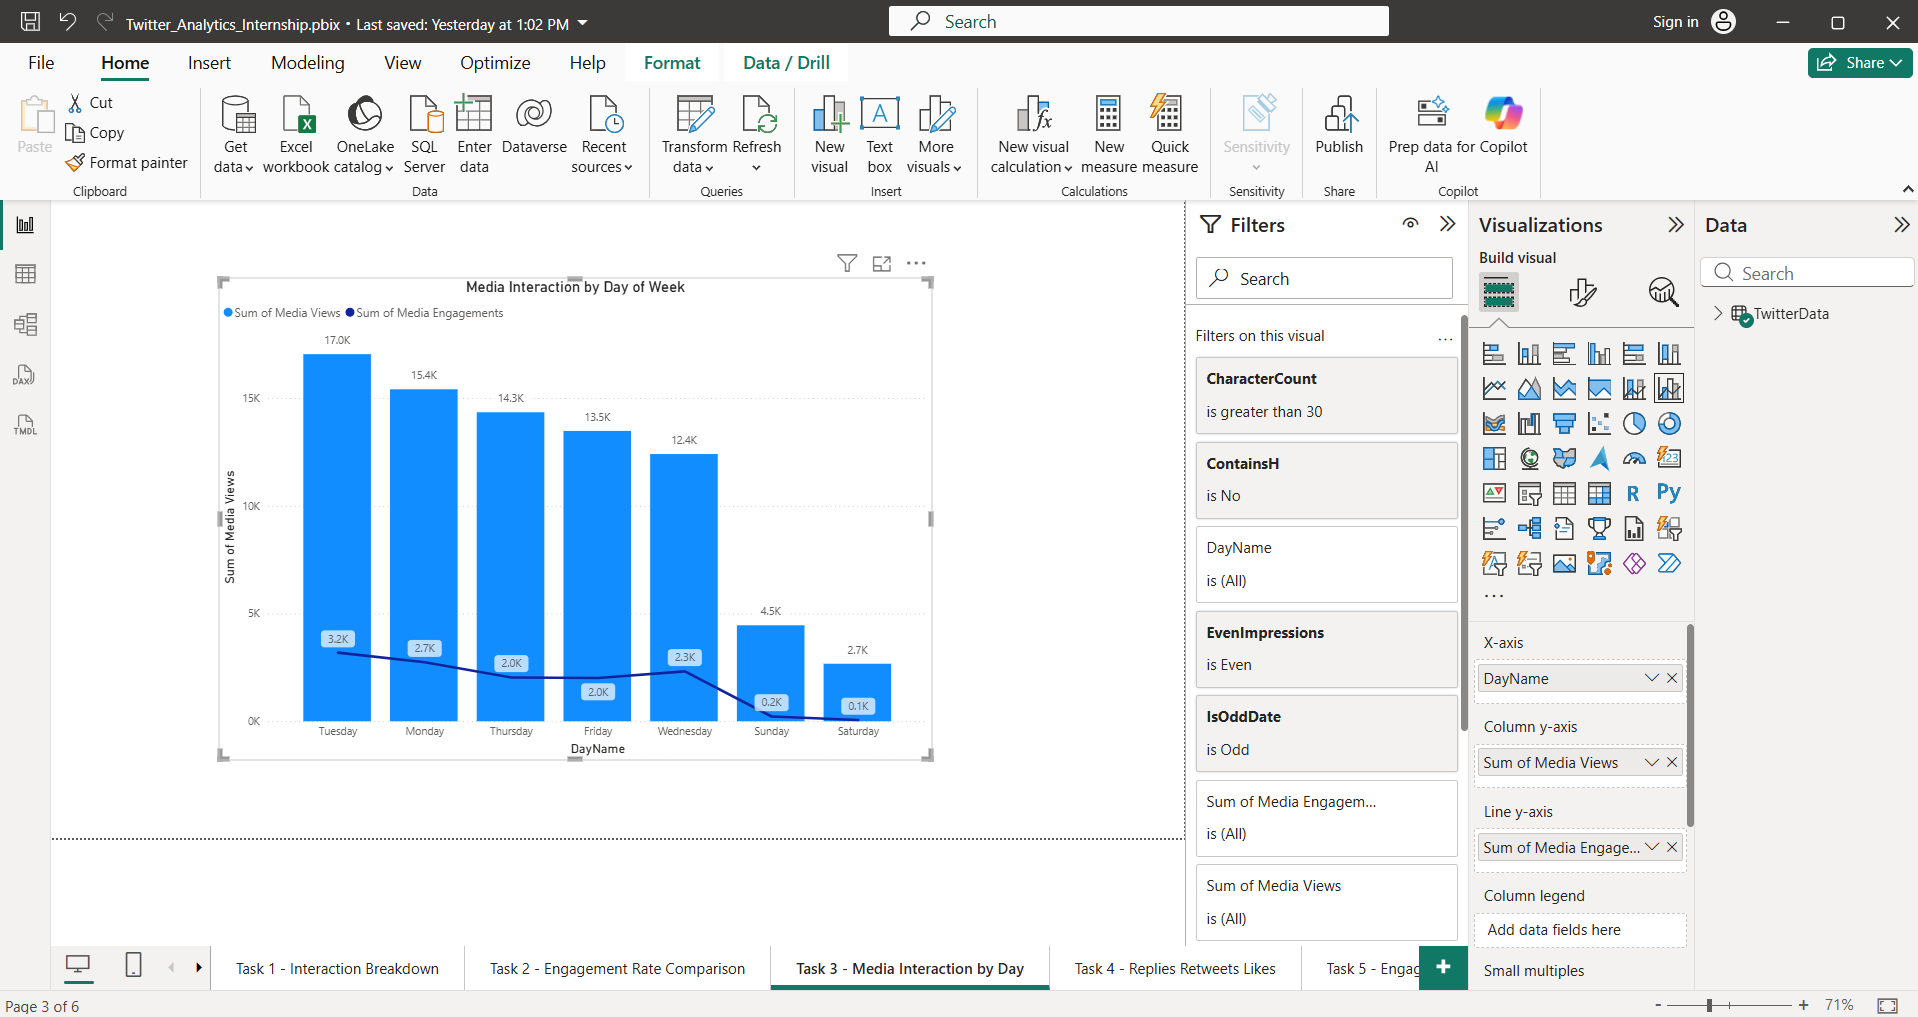

This screenshot's page, from the dashboard's own definition file:
{"tool":"powerbi","page":{"name":"Task 3 - Media Interaction by Day","canvas":[1280,720],"ordinal":2},"visuals":[{"type":"lineClusteredColumnComboChart","title":"Media Interaction by Day of Week","fields":{"Category":["TwitterData.DayName"],"Y":["Sum(TwitterData.Media Views)"],"Y2":["Sum(TwitterData.Media Engagements)"]},"box":[104.4,36.7,805.6,545.6],"z":0}]}

Visuals, with their boxes on the page's 1280x720 design canvas (x1, y1, x2, y2). These are canvas units, not pixel positions in the 1918x1017 screenshot, which may show the page scaled, cropped or inside an application window:
"Media Interaction by Day of Week" lineClusteredColumnComboChart: (104, 37, 910, 582)
